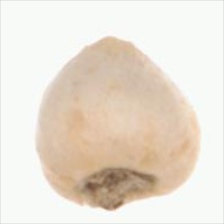L3: (95, 34, 140, 51)
L4: (36, 34, 201, 211)
